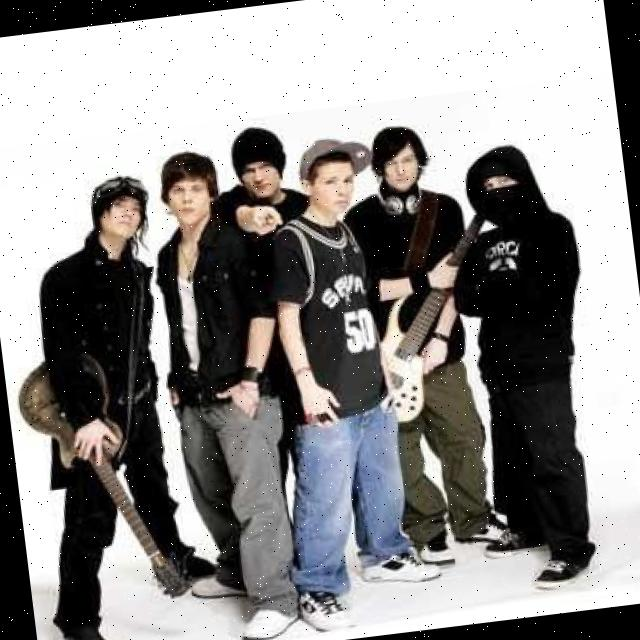guitar: (9, 335, 200, 617), (361, 193, 520, 420)
